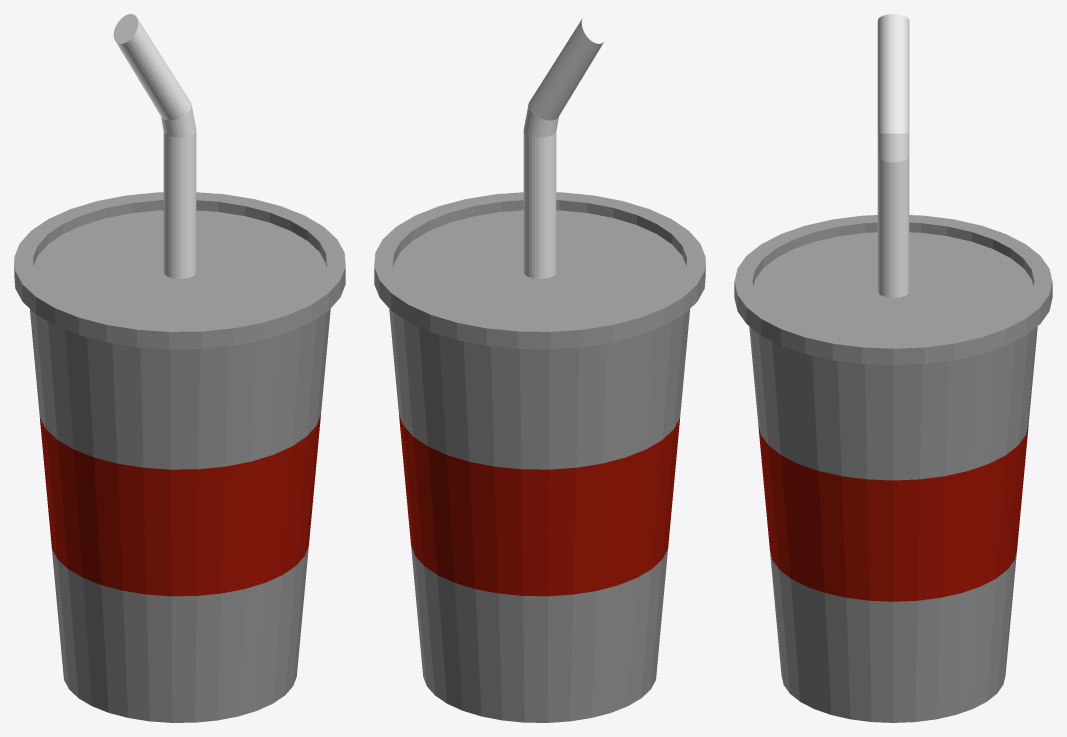
File: cannette.glb
3 views of the same model, side by side, from view 1: azimuth 30°, elevation 25°; view 2: azimuth 150°, elevation 25°; view 3: azimuth 270°, elevation 25° (orthographic). The views are drawn at different scales.
Visible parts, largest first — view 1: Cylinder; view 2: Cylinder; view 3: Cylinder.
Part boxes in pixels (left/top/right/bottom): Cylinder: left=14, top=14, right=345, bottom=722; Cylinder: left=374, top=14, right=705, bottom=722; Cylinder: left=734, top=14, right=1052, bottom=722.
Size of the model in its own units: 0.7282 by 1.62 by 0.7282.
